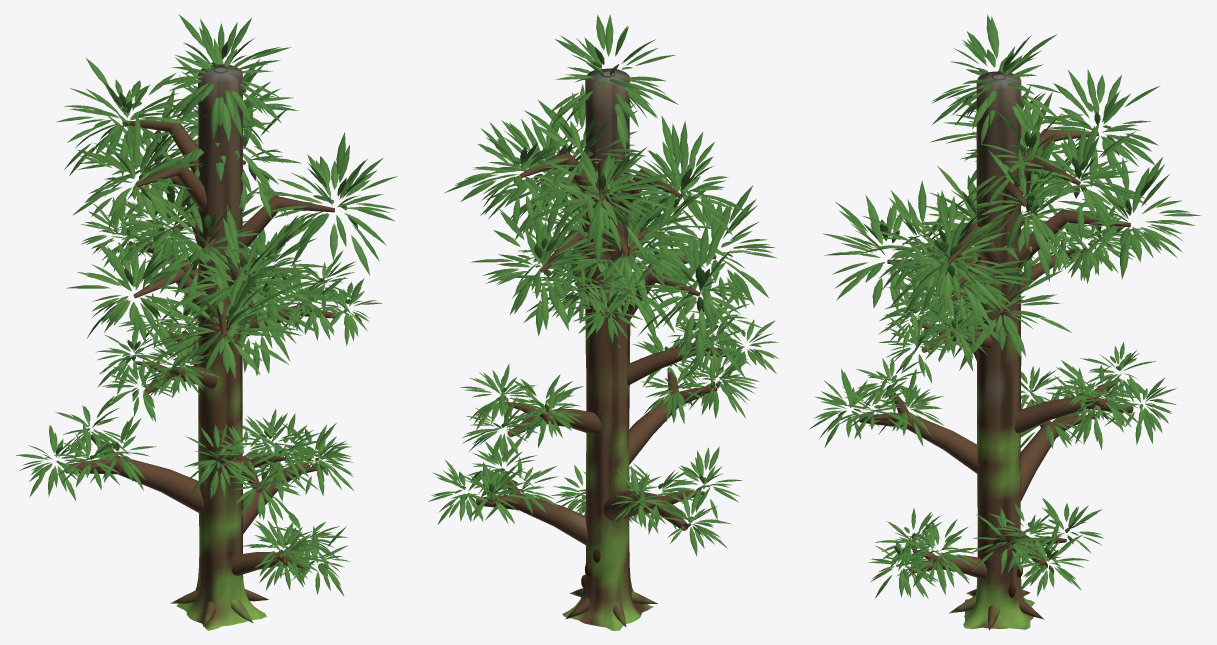
File: Park_Kunugi.fbx
3 views of the same model, side by side, from view 1: azimuth 30°, elevation 25°; view 2: azimuth 150°, elevation 25°; view 3: azimuth 270°, elevation 25° (orthographic).
Parts seen in each view (by area): view 1: Park_Kunugi; view 2: Park_Kunugi; view 3: Park_Kunugi.
Boxes of the visible parts, x1,y1,x2,y2 form: Park_Kunugi: [16, 14, 397, 630]; Park_Kunugi: [428, 14, 778, 630]; Park_Kunugi: [809, 14, 1201, 630].
Bounding box in the file's own units: 67.02 × 121 × 74.77.
